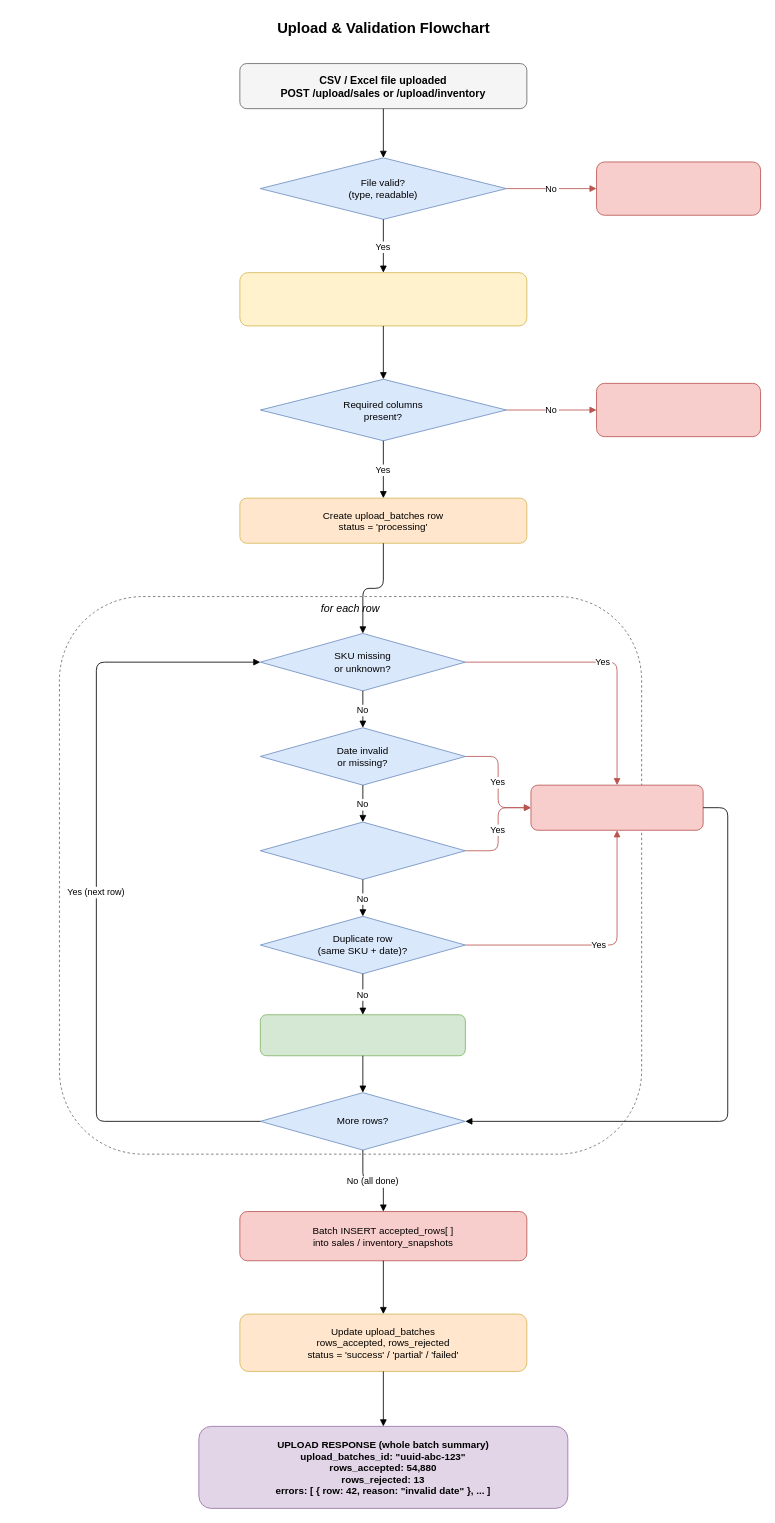
Some shapes in this 775 by 1523 pixel diagram are drawn without their labels. The shapes that lost their labels are listed below. From the top down, each one's centre as x and y in pixels, then its label:
At point 678,188: "Return HTTP 400 Invalid file type or unreadable file".
At point 383,299: "Parser (app/parsers/) Read file → pandas DataFrame normalise column headers".
At point 678,410: "Return HTTP 400 Missing required columns".
At point 616,807: "errors[ ].append( { row_number, reason })".
At point 362,850: "Price or qty <= 0?".
At point 362,1035: "accepted_rows[ ].append(row)".
